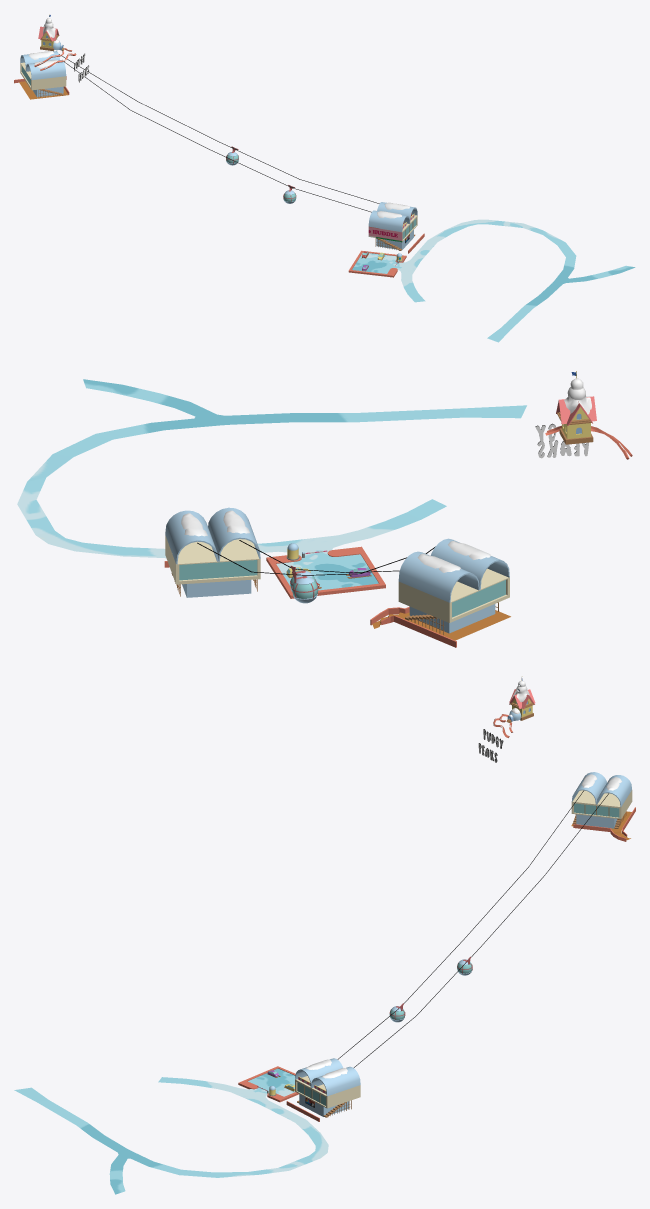
The model's file is Neighborhood_PudgyPeaks_02.fbx.
The picture shows the model from 3 angles, top to bottom: view 1: azimuth 30°, elevation 25°; view 2: azimuth 150°, elevation 25°; view 3: azimuth 270°, elevation 25°; orthographic projection. The views are drawn at different scales.
Visible parts, largest first — view 1: PudgyPeaks_Road, Building_Gloondola_Top (×2), Cable, Building_PeaksHouse; view 2: Building_Gloondola_Top (×2), PudgyPeaks_Road, Building_PeaksHouse, Building_Parking, Object_PudgyPeaksSign, Building_CableCar1, Cable; view 3: Building_Gloondola_Top (×2), PudgyPeaks_Road, Building_PeaksHouse, Cable.
Boxes of the visible parts, x1,y1,x2,y2 form: PudgyPeaks_Road: [352, 219, 635, 342]; Building_Gloondola_Top (×2): [14, 51, 417, 250]; Cable: [59, 54, 379, 212]; Building_PeaksHouse: [38, 14, 63, 51]; Building_Gloondola_Top (×2): [165, 507, 510, 647]; PudgyPeaks_Road: [17, 379, 526, 590]; Building_PeaksHouse: [556, 371, 596, 444]; Building_Parking: [266, 546, 385, 598]; Object_PudgyPeaksSign: [535, 423, 588, 458]; Building_CableCar1: [291, 571, 318, 603]; Cable: [197, 540, 435, 575]; Building_Gloondola_Top (×2): [295, 772, 635, 1117]; PudgyPeaks_Road: [14, 1068, 328, 1194]; Building_PeaksHouse: [507, 676, 535, 721]; Cable: [337, 790, 608, 1067].
Size of the model in its own units: 10224 by 5169 by 10535.
